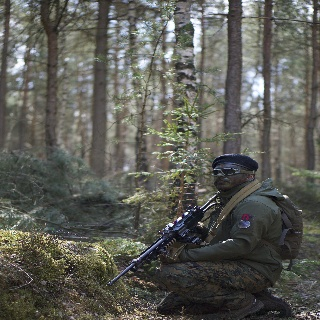rifle: (107, 189, 222, 296)
